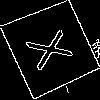X: (25, 23, 83, 72)
